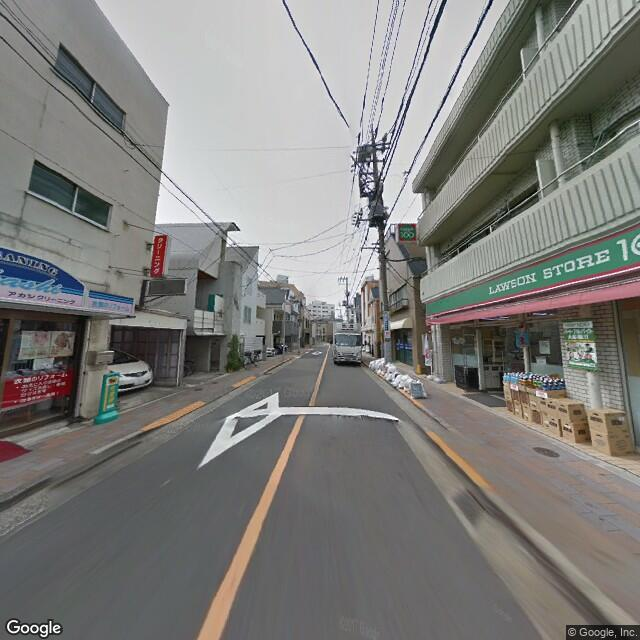lawson: (426, 223, 639, 328), (395, 217, 420, 245)
